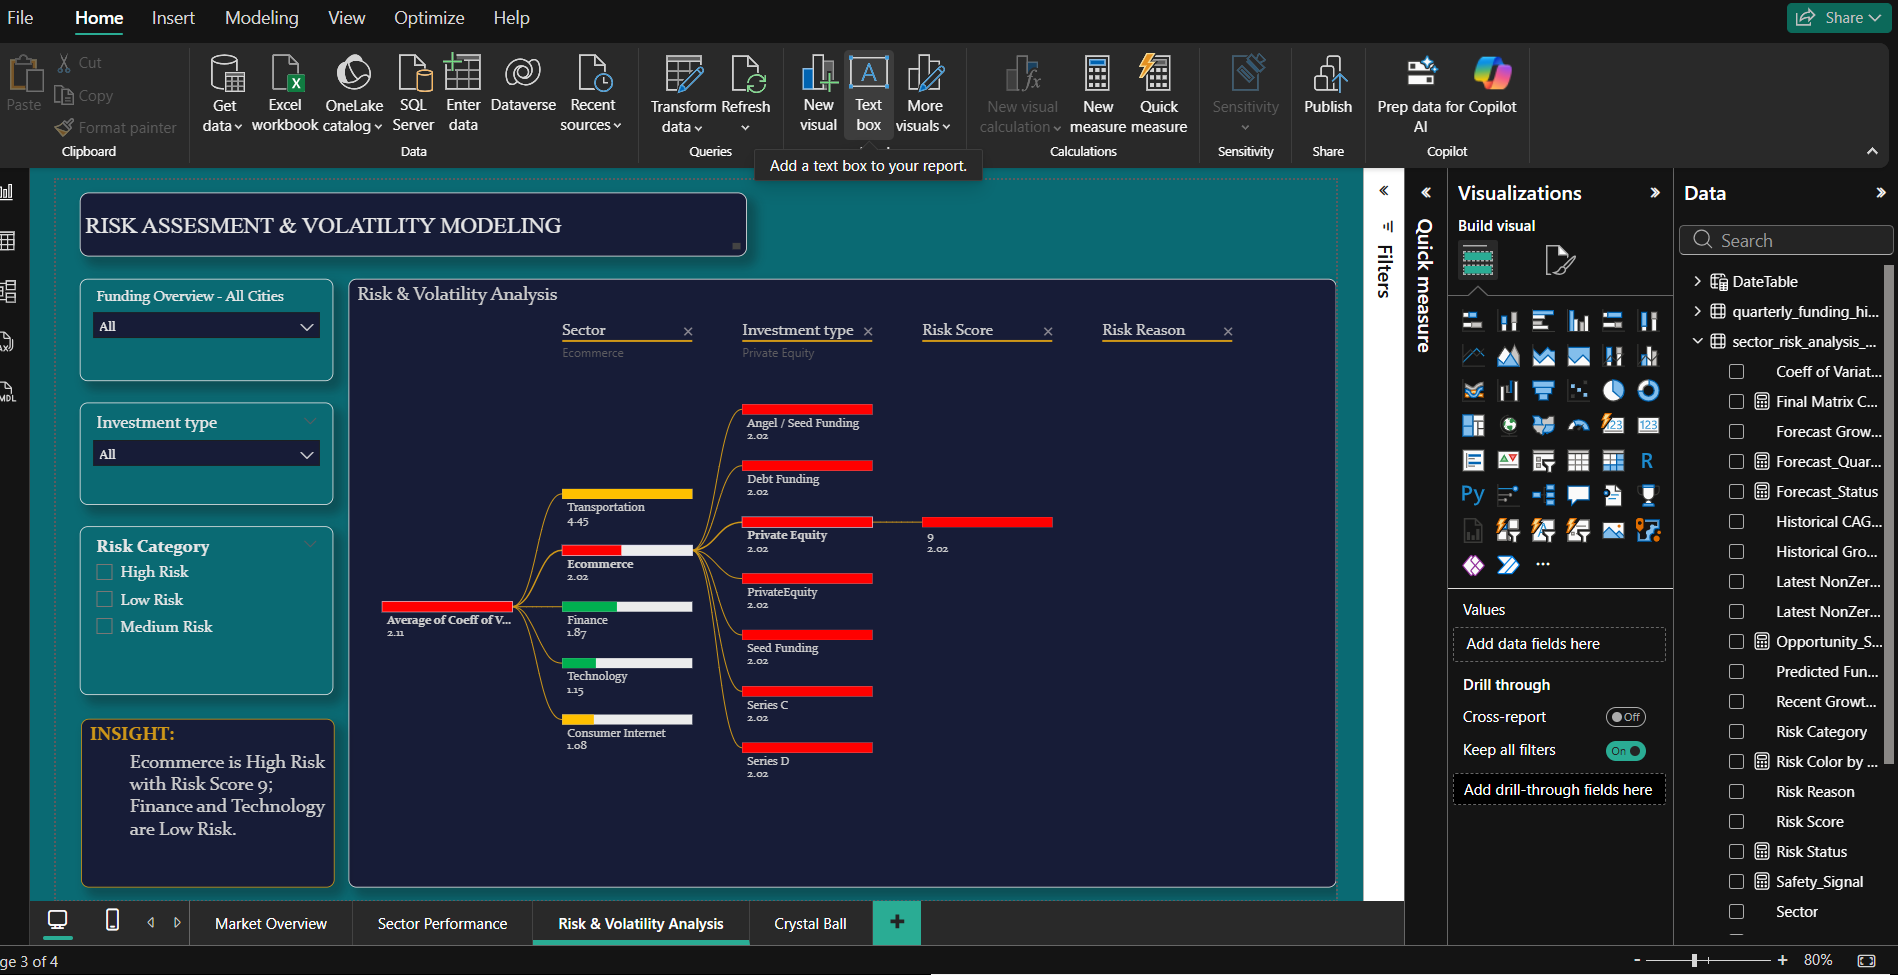

This screenshot's page, from the dashboard's own definition file:
{"tool":"powerbi","page":{"name":"Risk & Volatility Analysis","canvas":[1280,720],"ordinal":2},"visuals":[{"type":"decompositionTreeVisual","title":"Risk & Volatility Analysis","fields":{"ExplainBy":["sector_risk_analysis_with_simple_forecast.Sector","Sheet1.Investment type","sector_risk_analysis_with_simple_forecast.Risk Score","sector_risk_analysis_with_simple_forecast.Risk Reason"],"Analyze":["Avg(sector_risk_analysis_with_simple_forecast.Coeff of Variation)"]},"box":[291.9,98.8,988.1,608.6],"z":0},{"type":"slicer","fields":{"Values":["Sheet1.City"]},"box":[23.6,98.3,253.8,102],"z":1000},{"type":"slicer","fields":{"Values":["Sheet1.Investment type"]},"box":[23.6,222.7,253.8,102],"z":2000},{"type":"textbox","title":"  RISK ASSESMENT & VOLATILITY  MODELING","box":[24.1,12.1,667.3,64.3],"z":4000},{"type":"slicer","fields":{"Values":["sector_risk_analysis_with_simple_forecast.Risk Category"]},"box":[23.6,345.8,253.8,169.2],"z":5000},{"type":"textbox","title":"INSIGHT:","box":[24.7,538.9,253.8,168.4],"z":5001}]}

Visuals, with their boxes on the page's 1280x720 design canvas (x1, y1, x2, y2). These are canvas units, not pixel positions in the 1898x975 screenshot, which may show the page scaled, cropped or inside an application window:
"Risk & Volatility Analysis" decompositionTreeVisual: <box>292,99,1280,707</box>
slicer - Sheet1.City: <box>24,98,277,200</box>
slicer - Sheet1.Investment type: <box>24,223,277,325</box>
"  RISK ASSESMENT & VOLATILITY  MODELING" textbox: <box>24,12,691,76</box>
slicer - sector_risk_analysis_with_simple_forecast.Risk Category: <box>24,346,277,515</box>
"INSIGHT:" textbox: <box>25,539,278,707</box>
